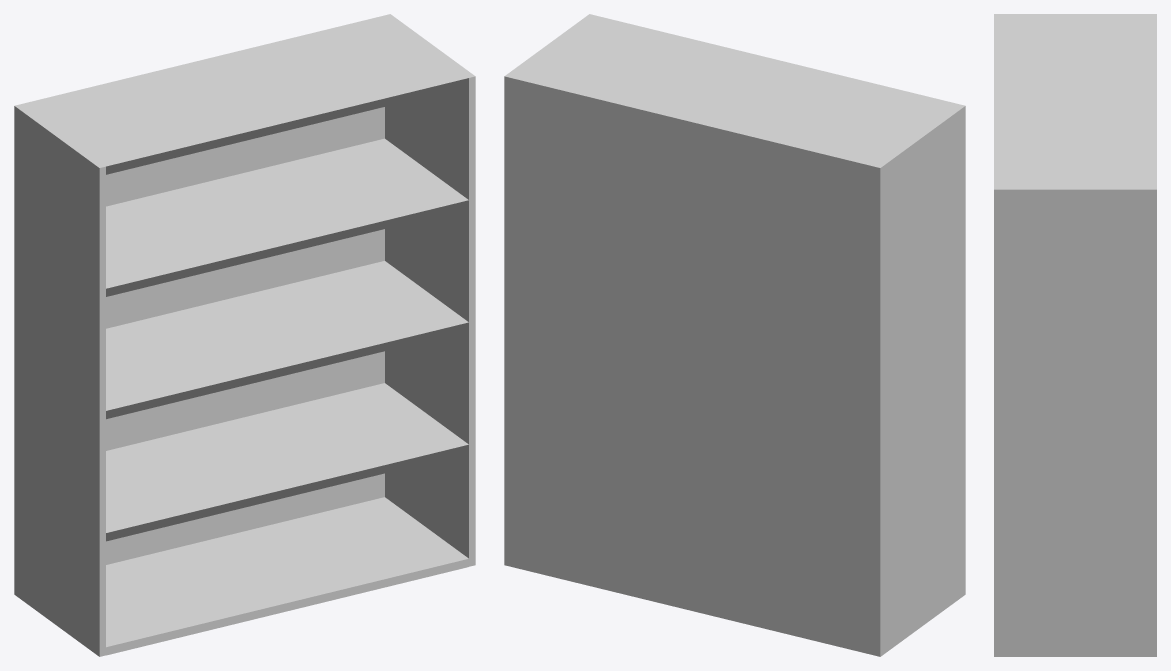
Rendered from shelf_049.glb.
3 views of the same model, side by side, from view 1: azimuth 30°, elevation 25°; view 2: azimuth 150°, elevation 25°; view 3: azimuth 270°, elevation 25° (orthographic). The views are drawn at different scales.
Parts seen in each view (by area): view 1: shelf_049; view 2: shelf_049; view 3: shelf_049.
Part boxes in pixels (x1,y1,x2,y2): shelf_049: (14, 14, 475, 656); shelf_049: (504, 14, 965, 656); shelf_049: (994, 14, 1156, 656).
Size of the model in its own units: 1.03 by 1.28 by 0.4027.
1 material, 1 textured.
